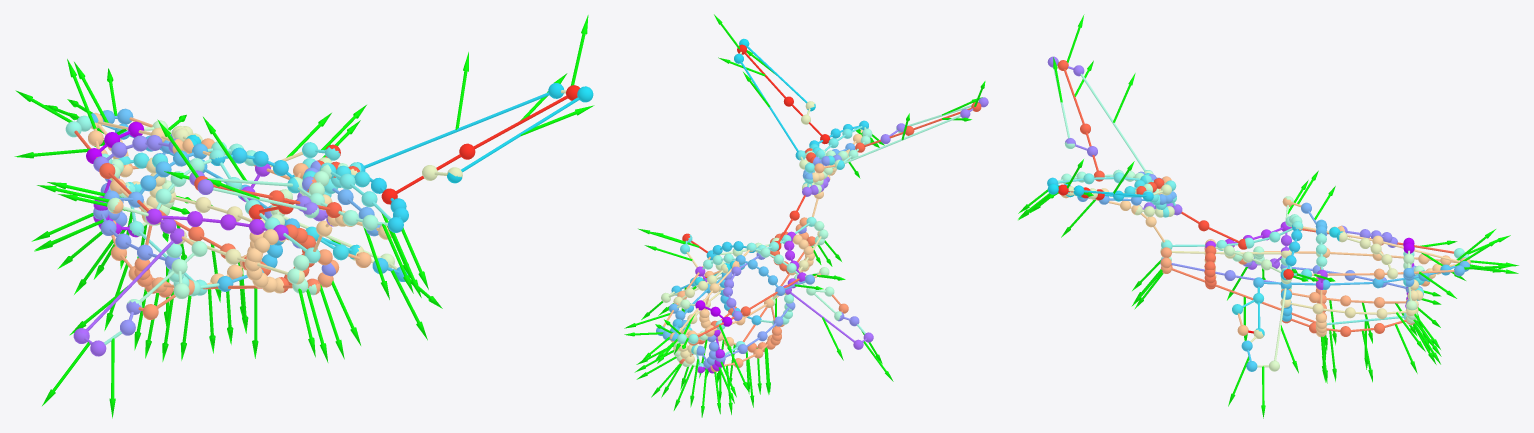
Rendered from ils_spacecraft_29.gltf.
3 renders of one model, left to right at view 1: azimuth 30°, elevation 25°; view 2: azimuth 150°, elevation 25°; view 3: azimuth 270°, elevation 25°, orthographic. The views are drawn at different scales.
Bounding box in the file's own units: 0.6142 × 0.5714 × 0.904.
